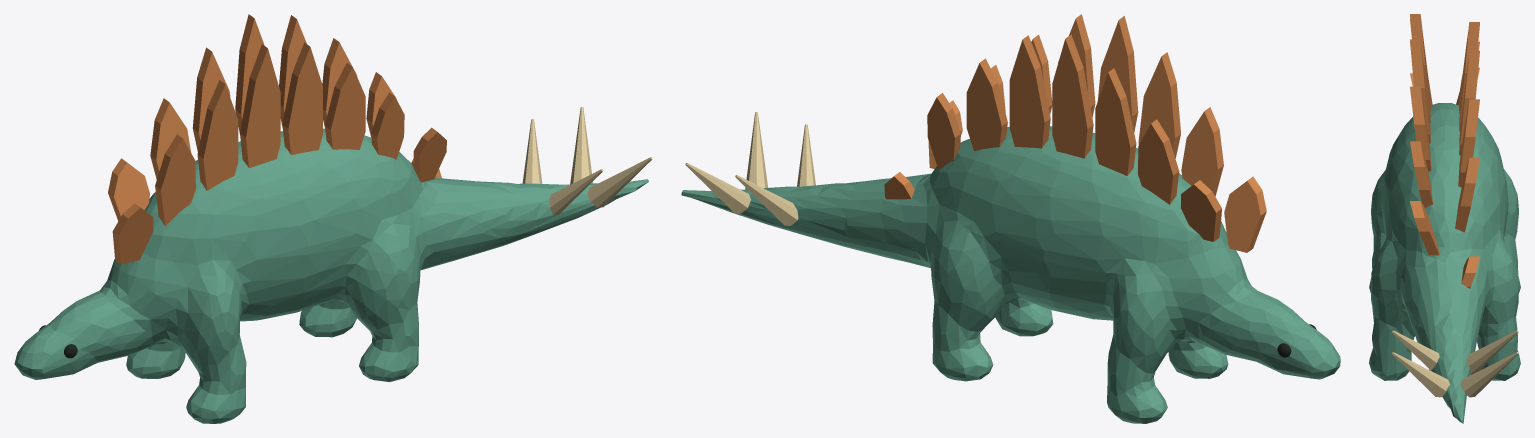
Rendered from NEW_RECOVERY_100_LOD1.glb.
3 renders of one model, left to right at view 1: azimuth 30°, elevation 25°; view 2: azimuth 150°, elevation 25°; view 3: azimuth 270°, elevation 25°, orthographic. The views are drawn at different scales.
Visible parts, largest first — view 1: Stegosaurus continuous skin and armor; view 2: Stegosaurus continuous skin and armor; view 3: Stegosaurus continuous skin and armor.
Part boxes in pixels (bbox=[...]): Stegosaurus continuous skin and armor: bbox=[14, 14, 652, 423]; Stegosaurus continuous skin and armor: bbox=[681, 14, 1340, 423]; Stegosaurus continuous skin and armor: bbox=[1369, 14, 1520, 423].
Bounding box in the file's own units: 6.49 × 3.39 × 1.48.
